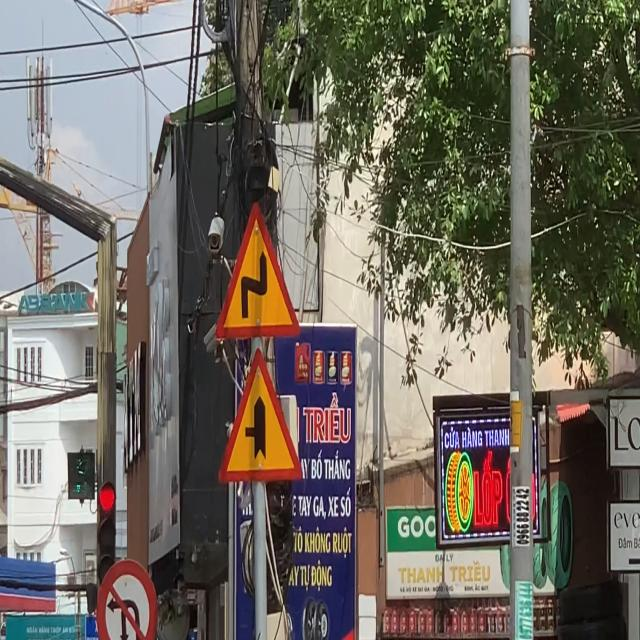Cam con lai: (96, 558, 158, 640)
Giao voi duong khong uu tien: (216, 346, 304, 486)
Nguy hiem: (213, 200, 303, 342)
